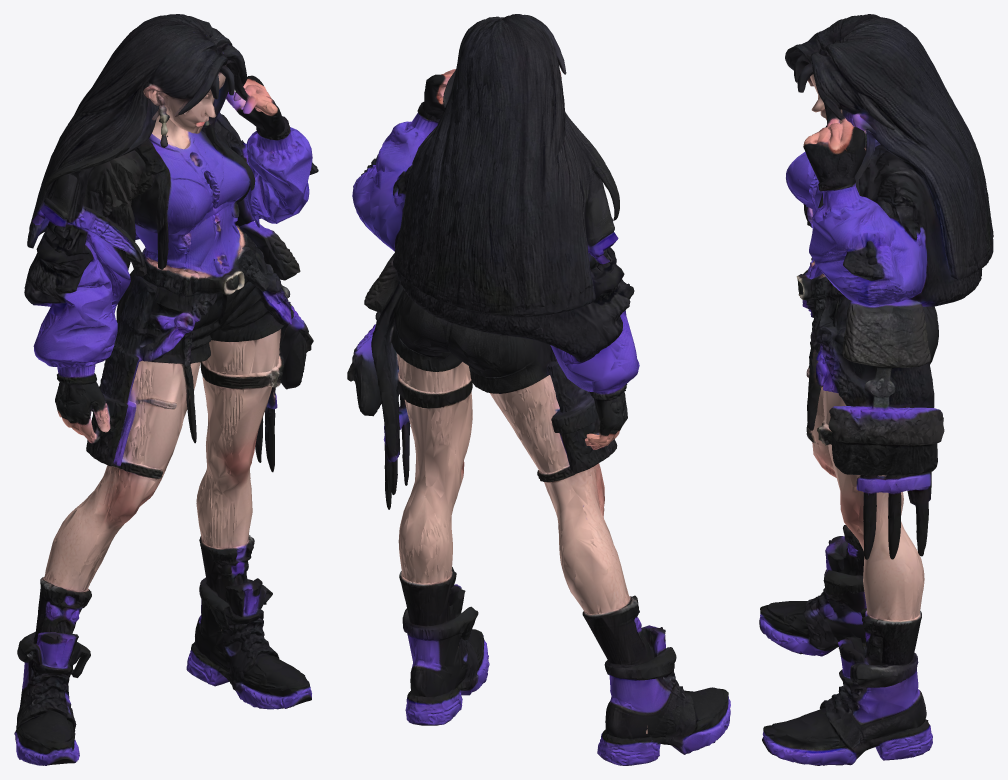
Rendered from vesper.glb.
3 renders of one model, left to right at view 1: azimuth 30°, elevation 25°; view 2: azimuth 150°, elevation 25°; view 3: azimuth 270°, elevation 25°, orthographic. The views are drawn at different scales.
Visible parts, largest first — view 1: model; view 2: model; view 3: model.
Part boxes in pixels (x1,y1,x2,y2): model: (14,14,318,765); model: (347,14,730,765); model: (759,14,993,765).
Bounding box in the file's own units: 0.9391 × 1.9 × 0.5758.
Materials: 1 (1 with a texture image).
